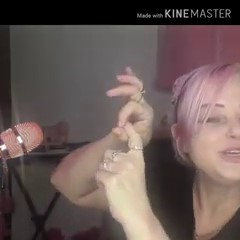Q: (93, 65, 158, 223)
